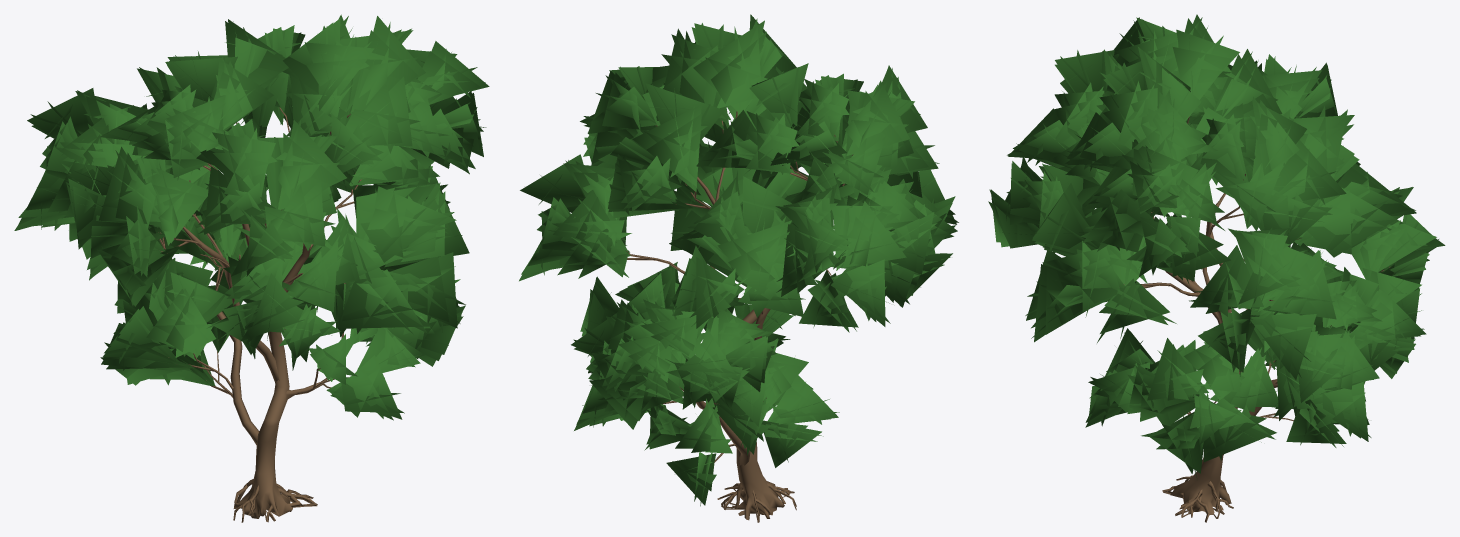
The model's file is Castanopsis_A.obj.
The picture shows the model from 3 angles, left to right: view 1: azimuth 30°, elevation 25°; view 2: azimuth 150°, elevation 25°; view 3: azimuth 270°, elevation 25°; orthographic projection. The views are drawn at different scales.
Parts seen in each view (by area): view 1: Leaves, Trunk; view 2: Leaves, Trunk; view 3: Leaves, Trunk.
Boxes of the visible parts, box(x1,y1,x2,y2) form: Leaves: box(14, 14, 489, 420); Trunk: box(158, 107, 361, 522); Leaves: box(519, 14, 958, 506); Trunk: box(626, 111, 853, 522); Leaves: box(988, 14, 1445, 478); Trunk: box(1124, 116, 1389, 522).
Bounding box in the file's own units: 35.97 × 42.43 × 37.16.
